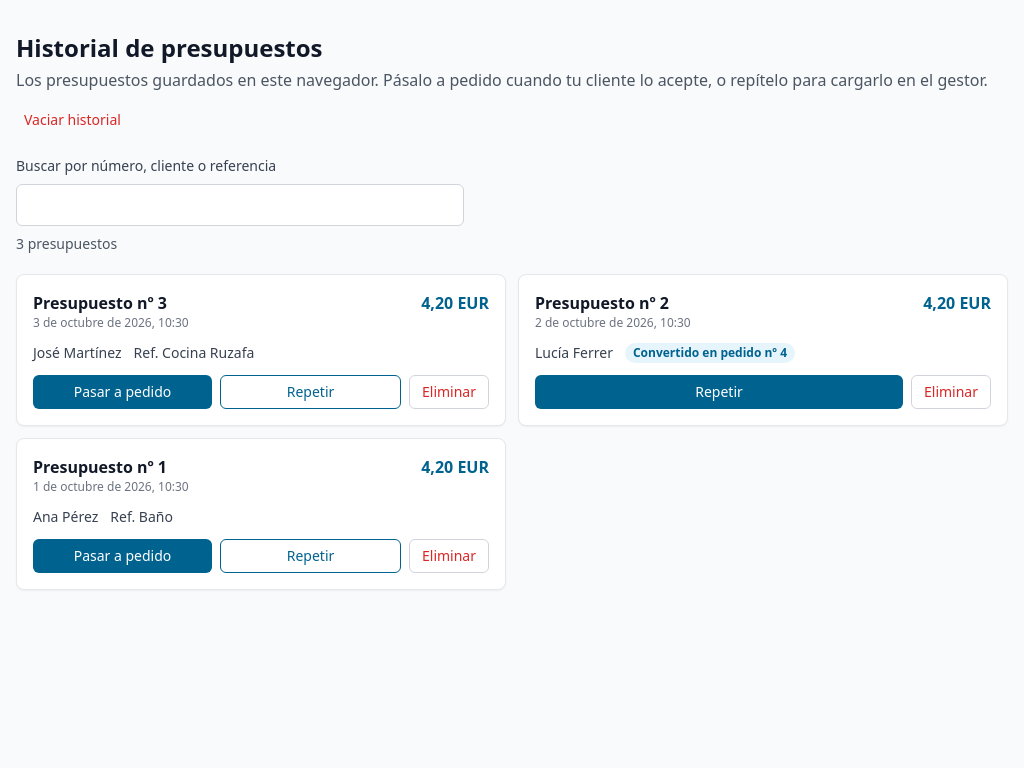
Test: HistoryPage › deletes an entry
The width and height of the screenshot is (1024, 768).
Click the button with aria-label "Eliminar presupuesto nº 2".
click(951, 392)  # box left=911, top=375, right=991, bottom=409
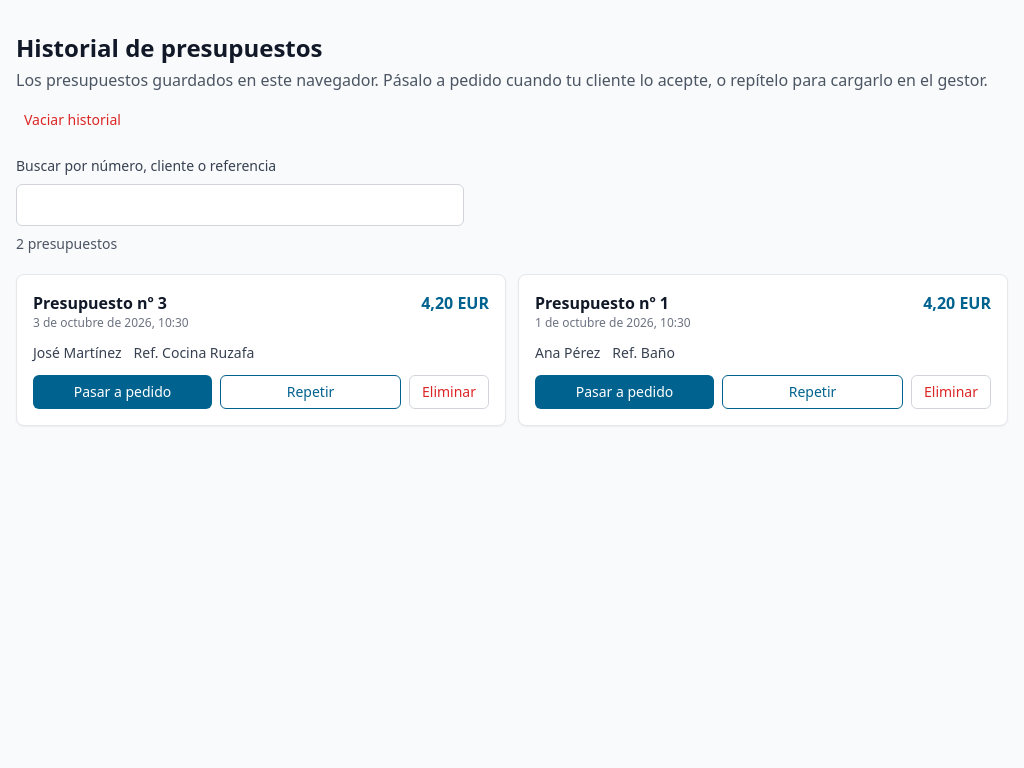
Expected: the number of list items with test id "history-entry" is 2, left=16, top=274, right=506, bottom=426; left=518, top=274, right=1008, bottom=426
Expected: the button "Presupuesto nº 2" is gone
